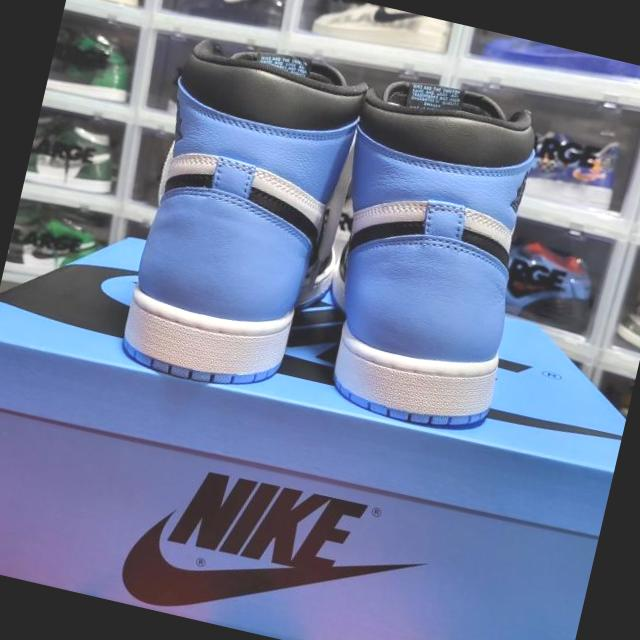nike_original_jordan: (294, 66, 561, 446), (114, 31, 371, 410)
